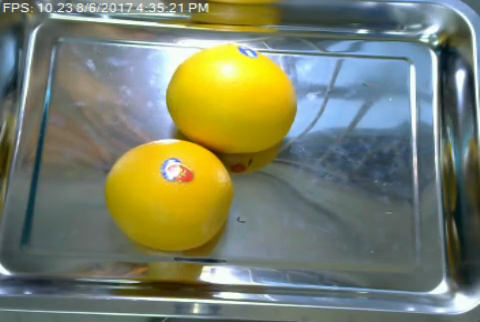Orange: (103, 140, 233, 250), (165, 45, 297, 152)
